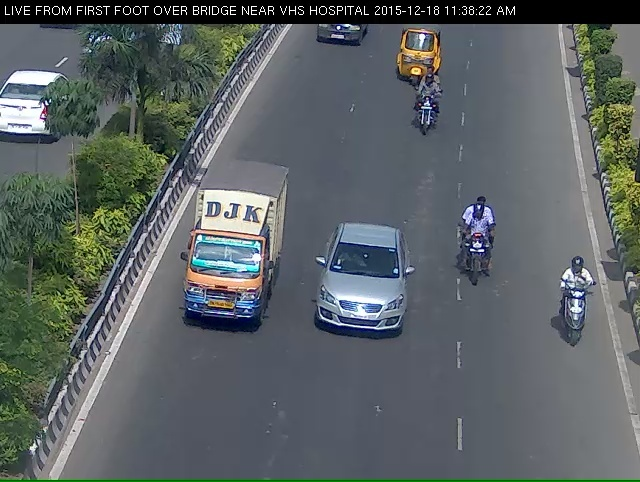Auto: (382, 31, 451, 84)
Bus: (178, 172, 281, 357)
Car: (311, 239, 411, 370), (304, 21, 365, 57)
Person: (446, 201, 507, 299), (557, 265, 607, 369), (407, 76, 450, 157)
